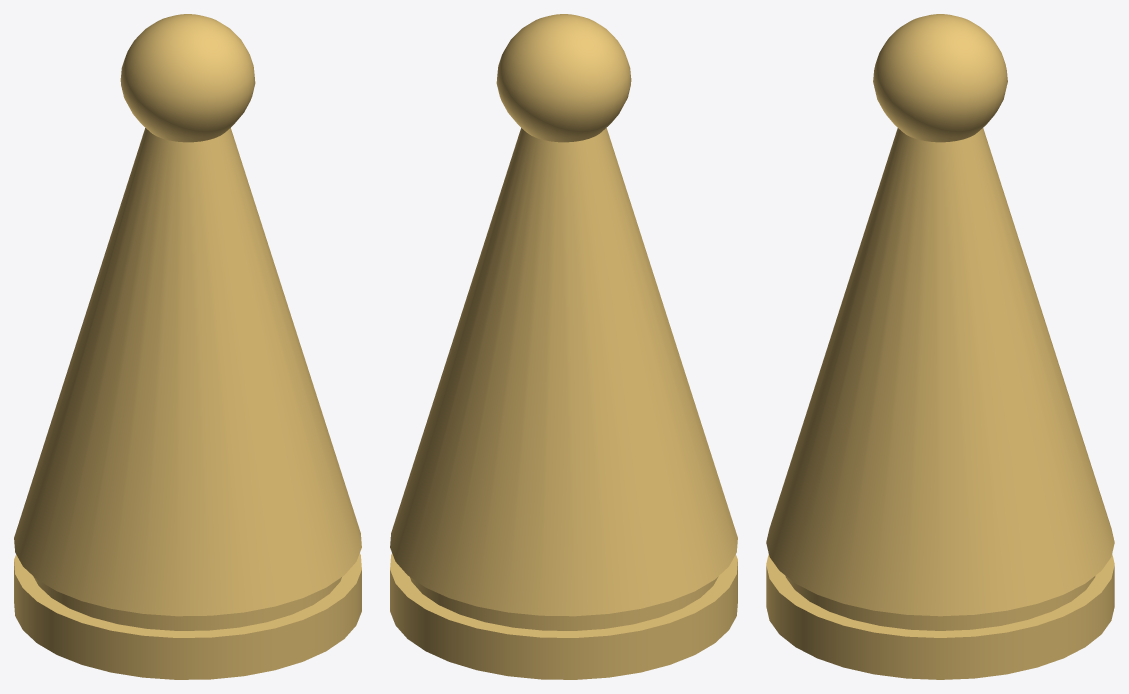
Rendered from Bishop_W.fbx.
3 renders of one model, left to right at view 1: azimuth 30°, elevation 25°; view 2: azimuth 150°, elevation 25°; view 3: azimuth 270°, elevation 25°, orthographic.
Parts seen in each view (by area): view 1: Bishop_W; view 2: Bishop_W; view 3: Bishop_W.
Boxes of the visible parts, x1,y1,x2,y2 form: Bishop_W: (14,14,361,679); Bishop_W: (390,14,737,679); Bishop_W: (766,14,1114,679).
Bounding box in the file's own units: 150 × 278 × 150.
